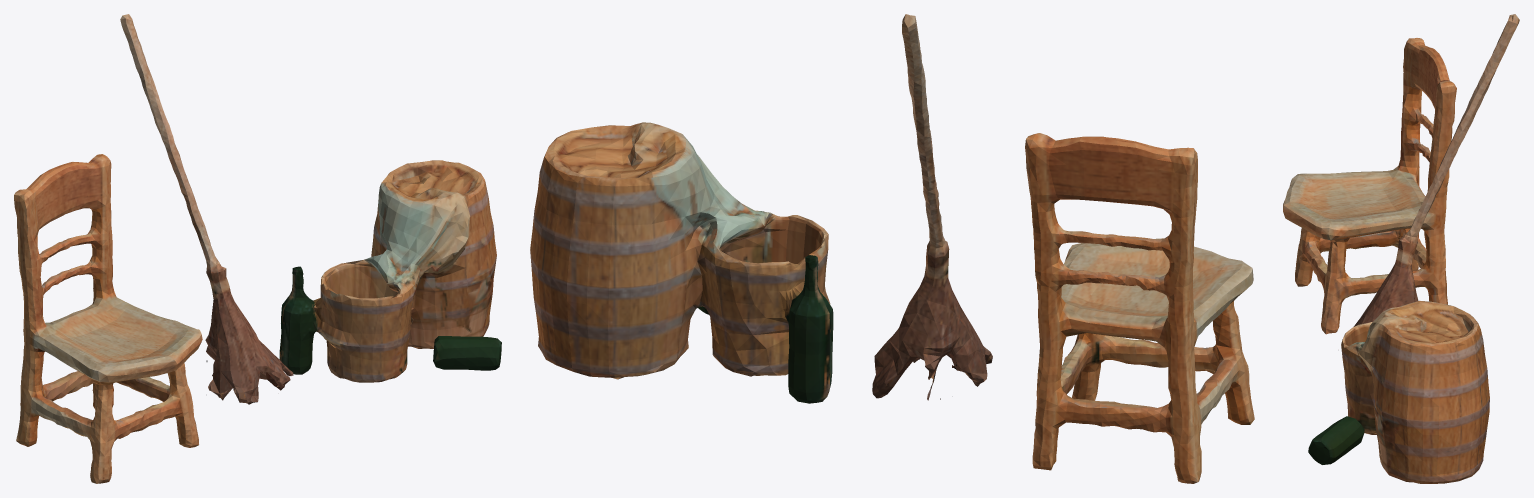
Rendered from StorageClutter.fbx.
3 renders of one model, left to right at view 1: azimuth 30°, elevation 25°; view 2: azimuth 150°, elevation 25°; view 3: azimuth 270°, elevation 25°, orthographic. The views are drawn at different scales.
Visible parts, largest first — view 1: StorageClutter_Low; view 2: StorageClutter_Low; view 3: StorageClutter_Low.
Part boxes in pixels (x1,y1,x2,y2): StorageClutter_Low: (14, 14, 501, 483); StorageClutter_Low: (530, 14, 1254, 483); StorageClutter_Low: (1283, 14, 1519, 483).
Bounding box in the file's own units: 2.06 × 1.44 × 0.9304.
